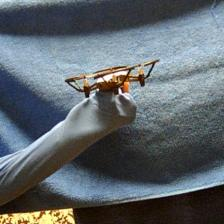drone: (64, 57, 162, 92)
